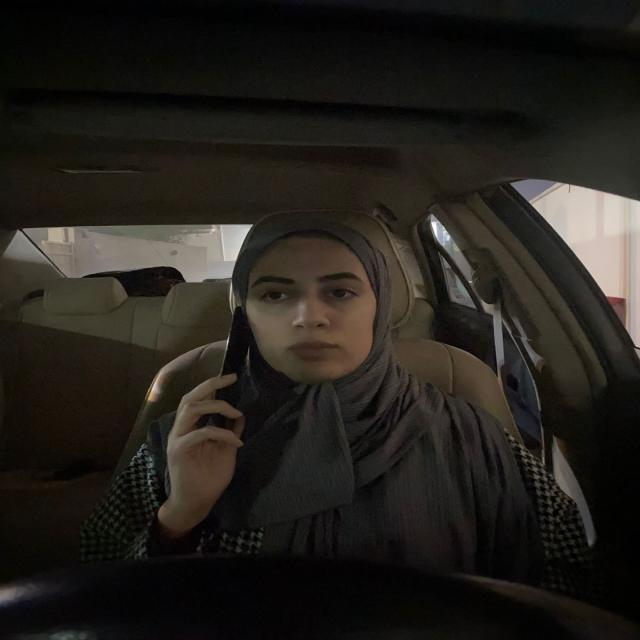mobile: (212, 299, 257, 415)
person: (230, 208, 392, 383)
